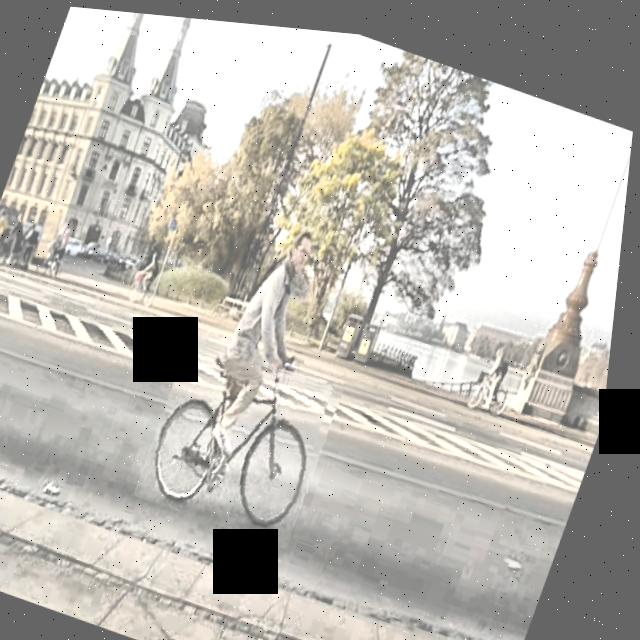bicycle: (140, 327, 354, 545)
